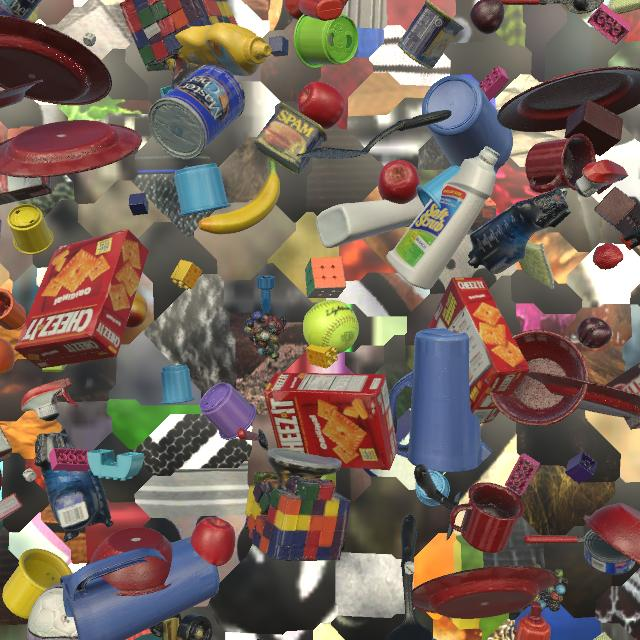ycb_002_master_chef_can: (148, 64, 245, 159), (0, 0, 42, 20)
ycb_003_cracker_box: (14, 229, 149, 369), (427, 277, 530, 424), (264, 373, 398, 470)
ycb_006_mustard_bottle: (175, 23, 271, 76)
ycb_007_tuna_fish_can: (584, 529, 635, 575), (0, 219, 2, 238)
ycb_008_pudding_box: (0, 158, 52, 205), (606, 362, 640, 430), (0, 427, 12, 462)
ycb_009_gelatin_box: (0, 493, 23, 521)
ycb_010_potted_meat_can: (254, 103, 328, 175), (397, 0, 464, 69)
ycb_011_banana: (198, 160, 280, 234)
ycb_012_strawberry: (593, 243, 624, 270)
ycb_013_apple: (297, 81, 345, 130), (190, 517, 235, 567), (378, 160, 420, 204)
ycb_015_peach: (126, 293, 148, 328)
ycb_016_pear: (320, 473, 336, 491)
ycb_017_orange: (0, 338, 15, 376)
ycb_018_plum: (470, 0, 504, 34), (577, 317, 612, 349)
